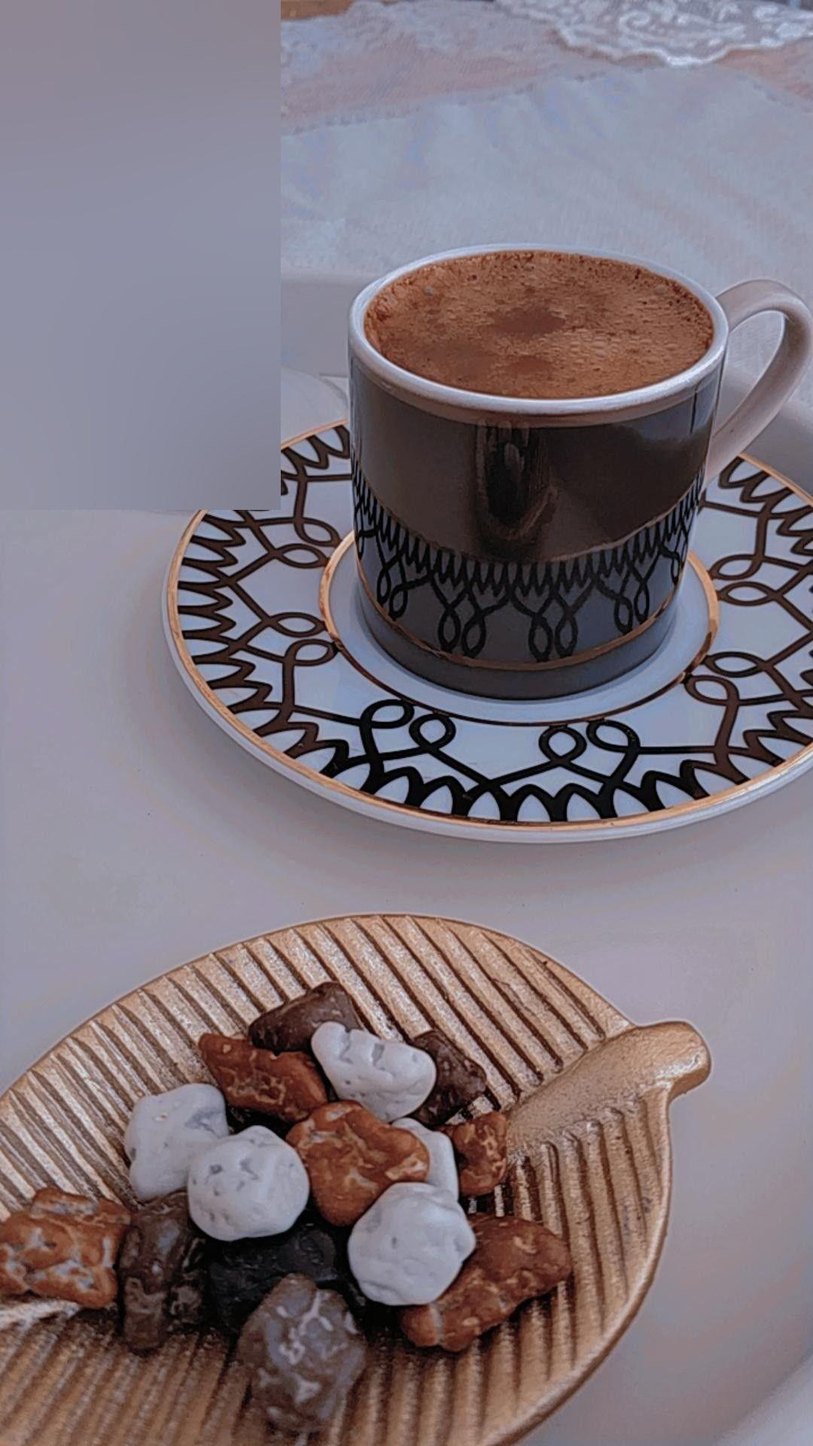cup-handle: (342, 242, 811, 700)
